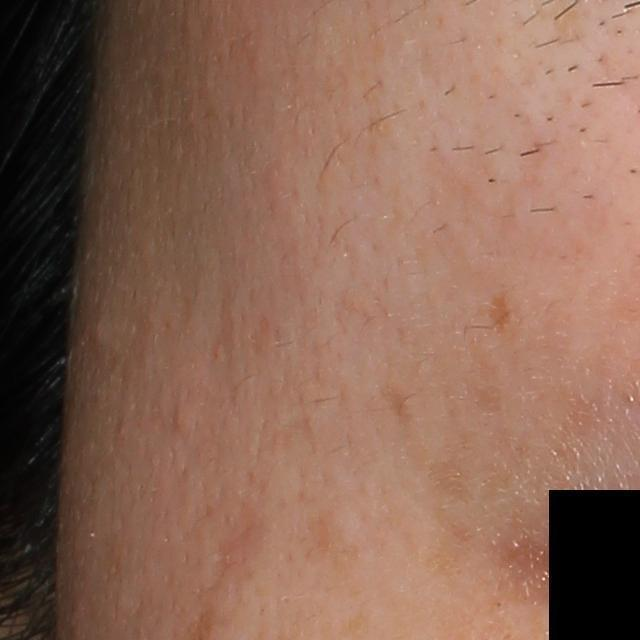melasma: (491, 284, 516, 336)
